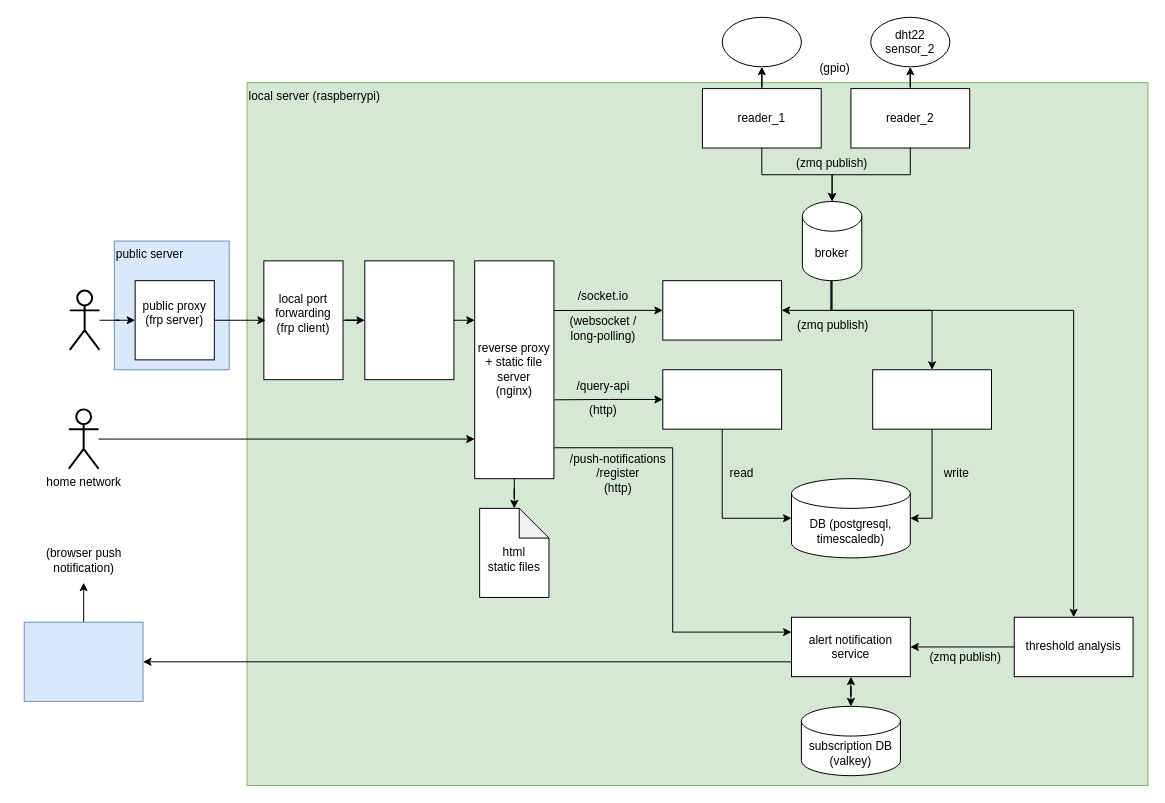
Some shapes in this 1165 by 803 pixel diagram are drawn without their labels. The shapes that lost their labels are listed below. From the top down, each one's centre as x and y in pixels, then its label:
the point at 761,41: dht22 sensor_1
the point at 84,319: internet
the point at 409,320: ssl-termination + basicauth (nginx)
the point at 722,310: socket.io proxy (+ last-values-cache)
the point at 722,399: query_service (history)
the point at 931,399: storage_service
the point at 83,661: public push service (e.g. apple/google/..)
